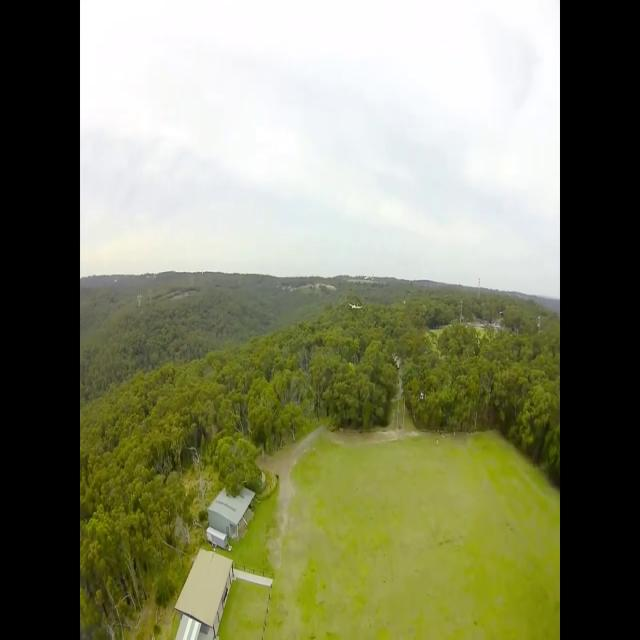iha: (354, 303, 358, 309)
